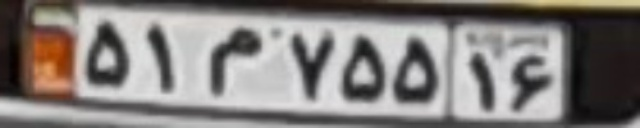1: (145, 23, 182, 94), (470, 51, 499, 110)
5: (393, 34, 441, 102), (83, 16, 129, 84), (342, 34, 387, 103)
6: (507, 54, 554, 109)
7: (289, 27, 334, 103)
mim: (206, 26, 262, 98)
